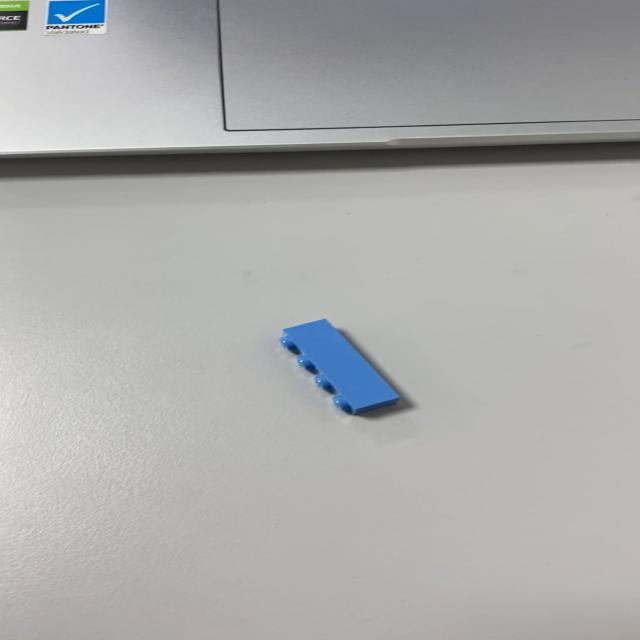C4x1x1: (277, 317, 401, 416)
